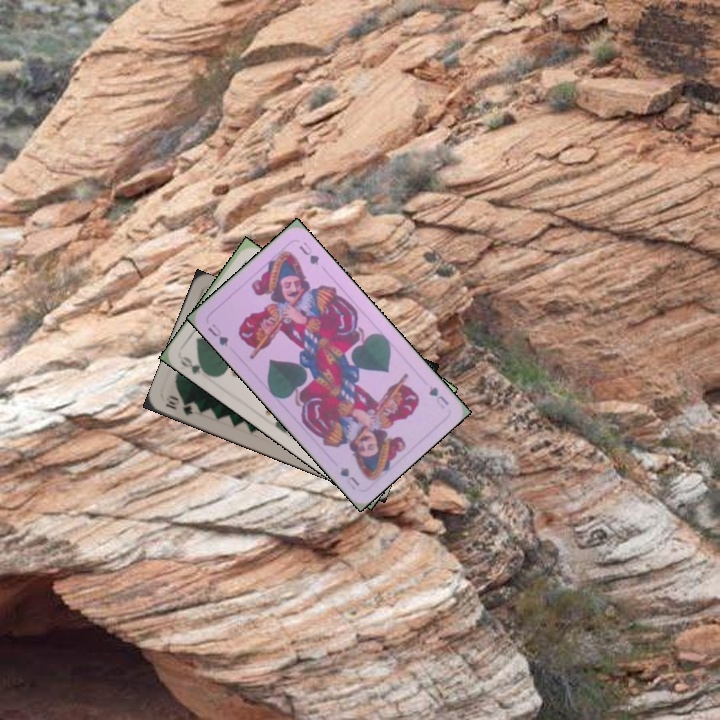G10: (161, 392, 196, 418)
GO: (176, 352, 214, 379)
GU: (203, 319, 232, 350), (425, 382, 452, 412)
